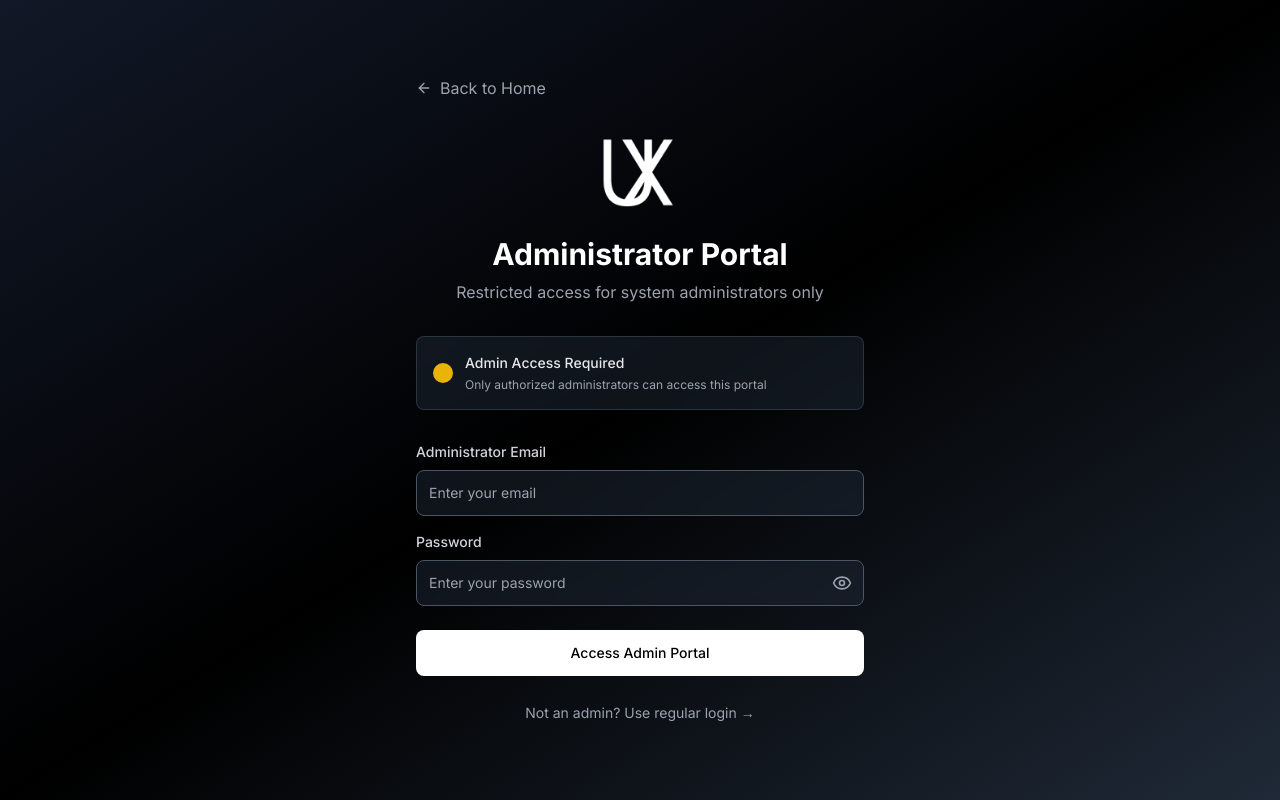
Test case: AdminLoginPage › Authentication Flow › handles authentication failure
This screenshot has width=1280, height=800.
Type "admin@uexam.com" into the field labelled "Administrator Email".
click(640, 493); type("admin@uexam.com")  # box [416,470,864,516]
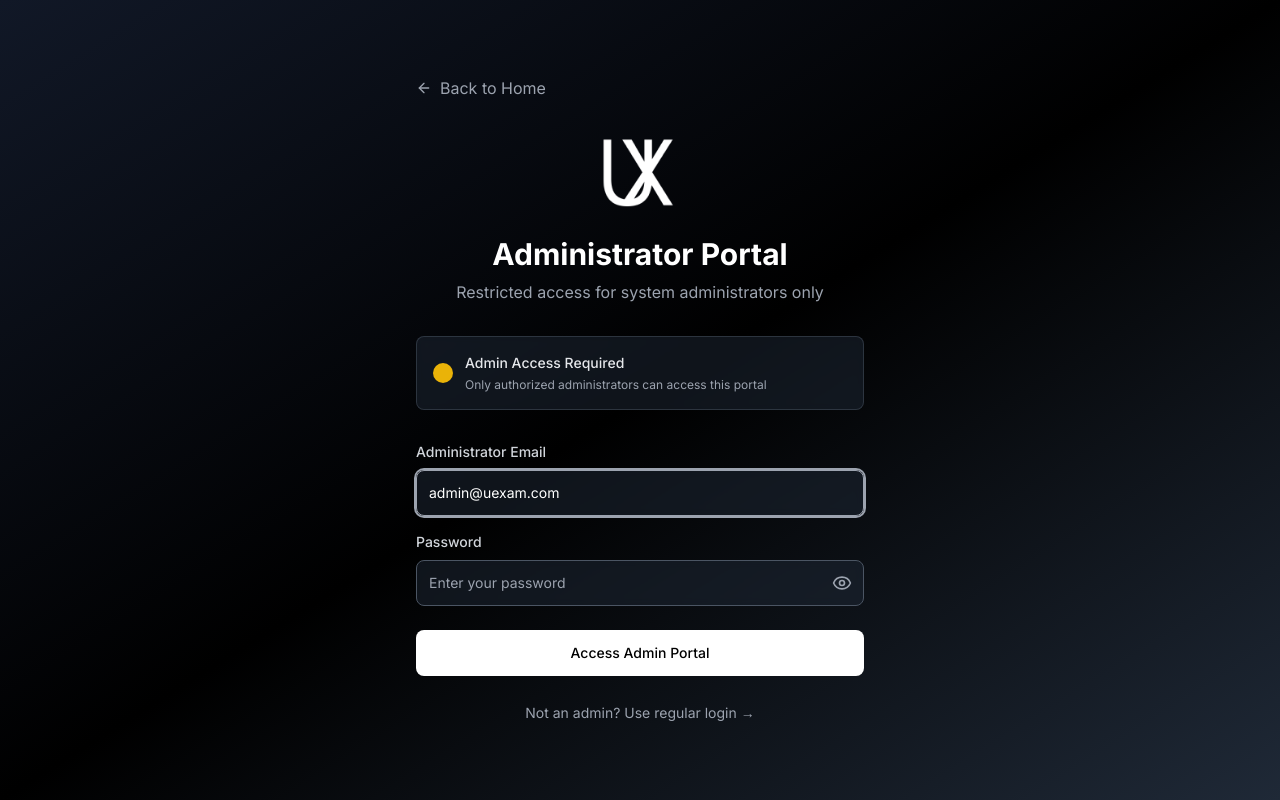
Type "admin123" into the password field labelled "Password".
click(640, 583); type("admin123")  # box [416,560,864,606]
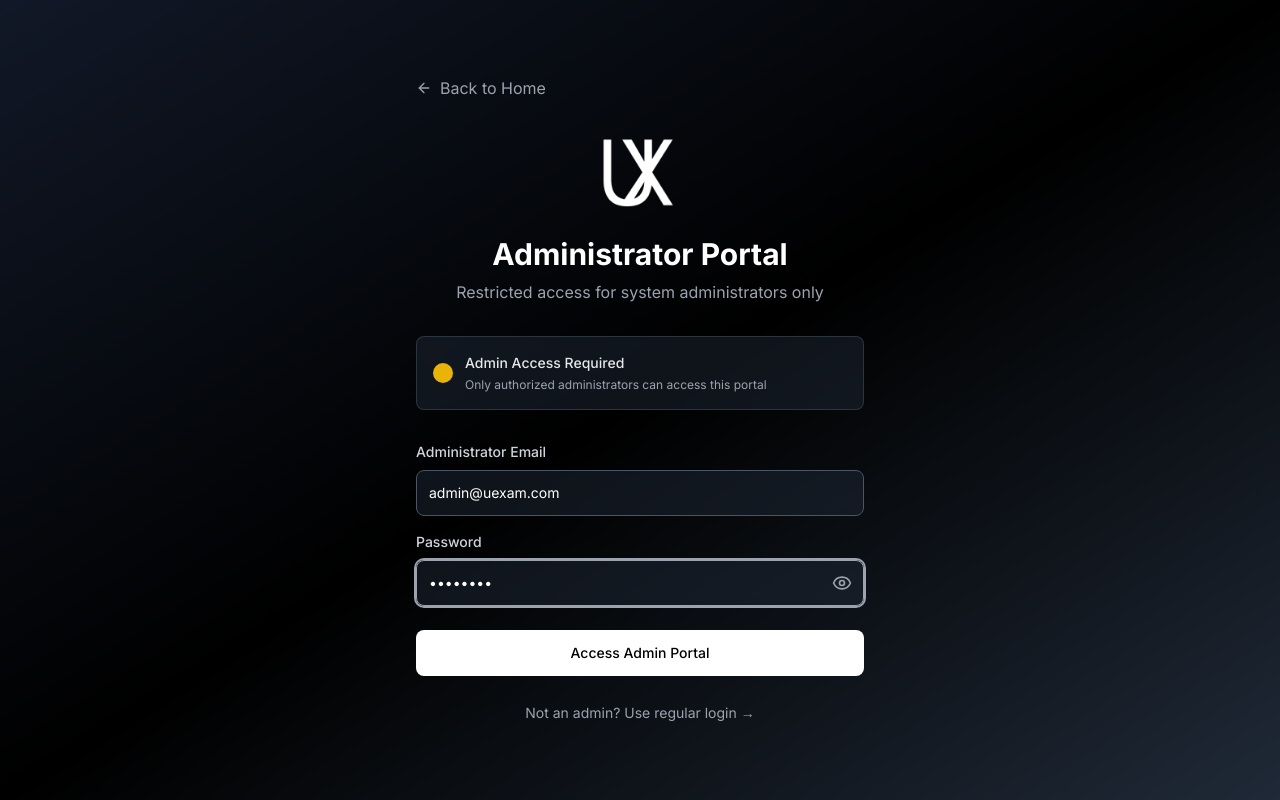
Click the button "Access Admin Portal".
click(640, 653)  # box [416,630,864,676]
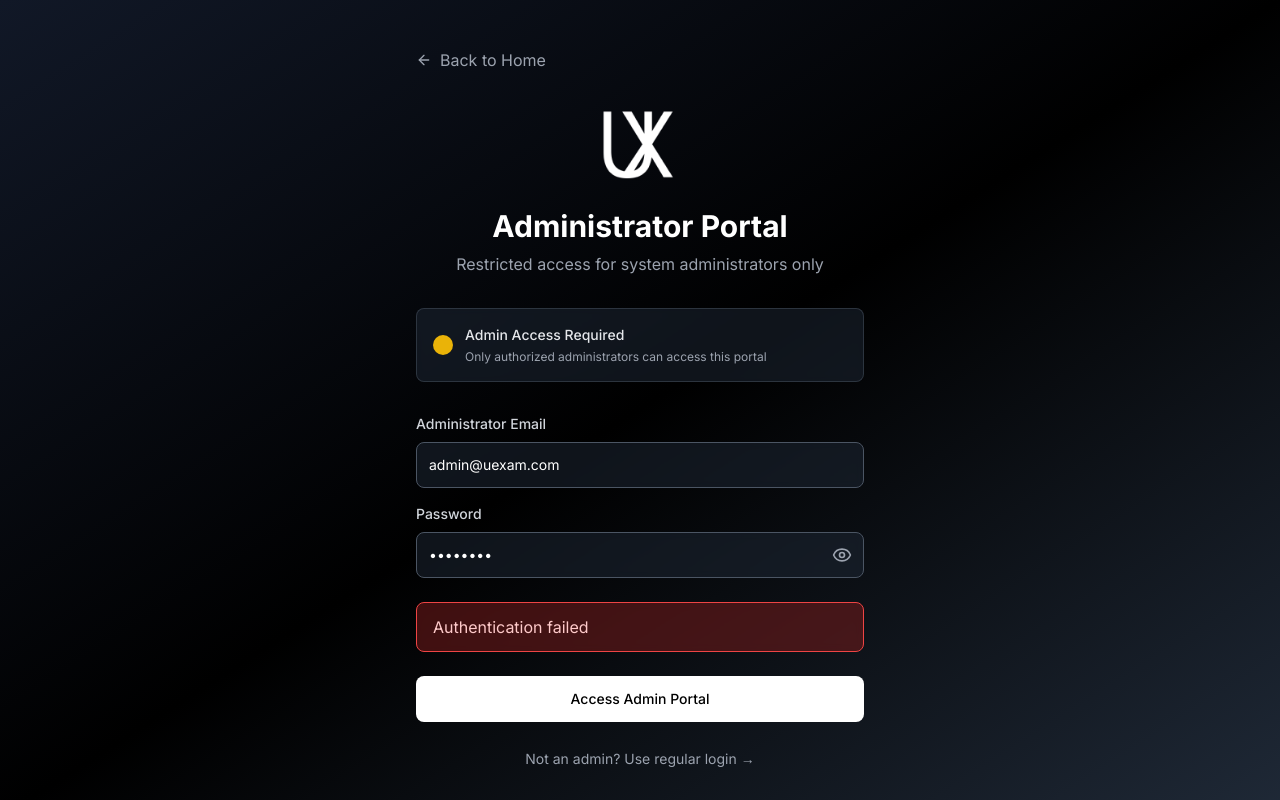
Result: the text "Authentication failed" is shown at [416,602,864,652]
